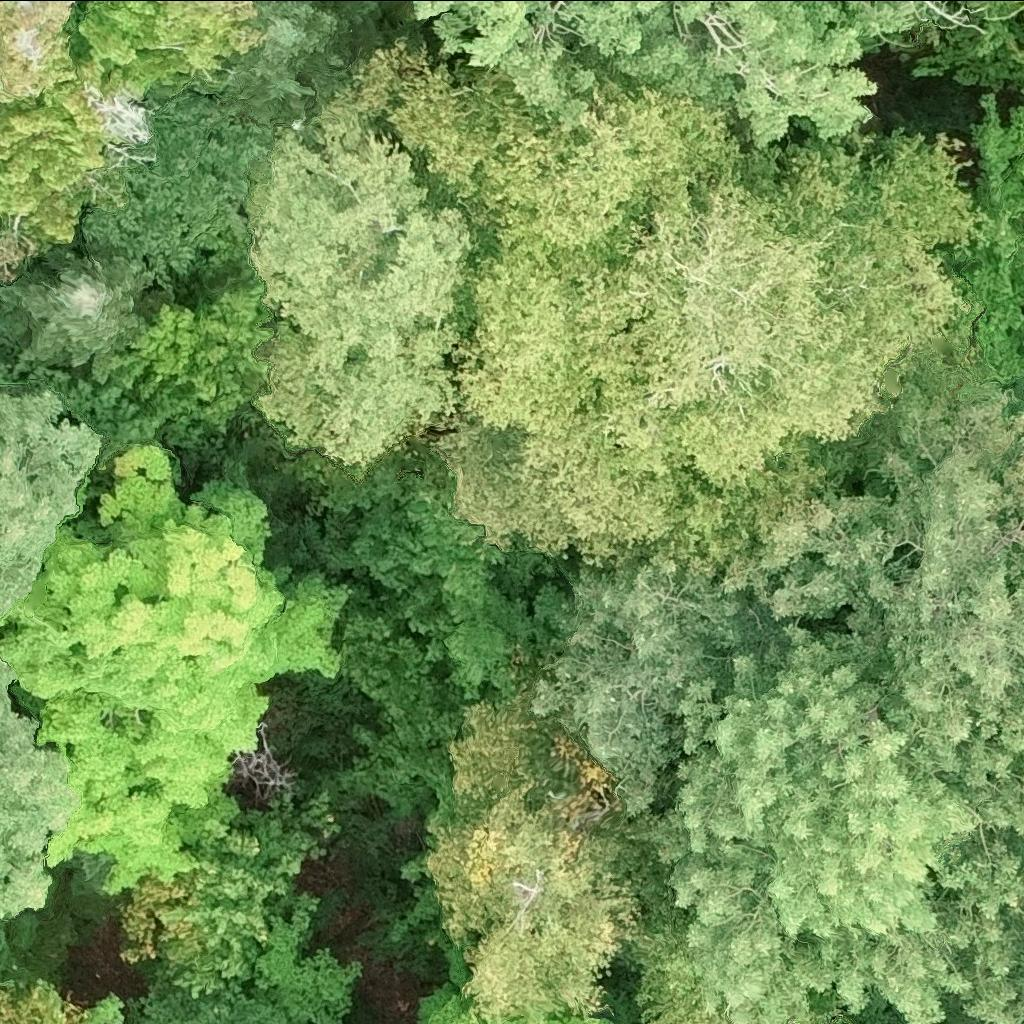crown: (438, 135, 983, 588), (526, 396, 1023, 820), (0, 455, 347, 897), (624, 647, 974, 1023), (330, 42, 744, 254), (245, 116, 471, 468), (415, 0, 944, 143), (431, 779, 644, 1021), (83, 76, 275, 297), (89, 283, 278, 430), (0, 386, 93, 621), (0, 63, 116, 240), (76, 0, 262, 102), (0, 256, 156, 375), (923, 843, 1023, 1023), (0, 677, 70, 921), (927, 740, 1023, 913), (26, 368, 161, 467), (241, 0, 377, 93), (0, 0, 75, 102), (429, 993, 609, 1023), (88, 88, 147, 141), (0, 985, 63, 1023), (0, 317, 15, 346), (0, 364, 15, 383), (1020, 52, 1023, 64), (1022, 167, 1023, 168)
